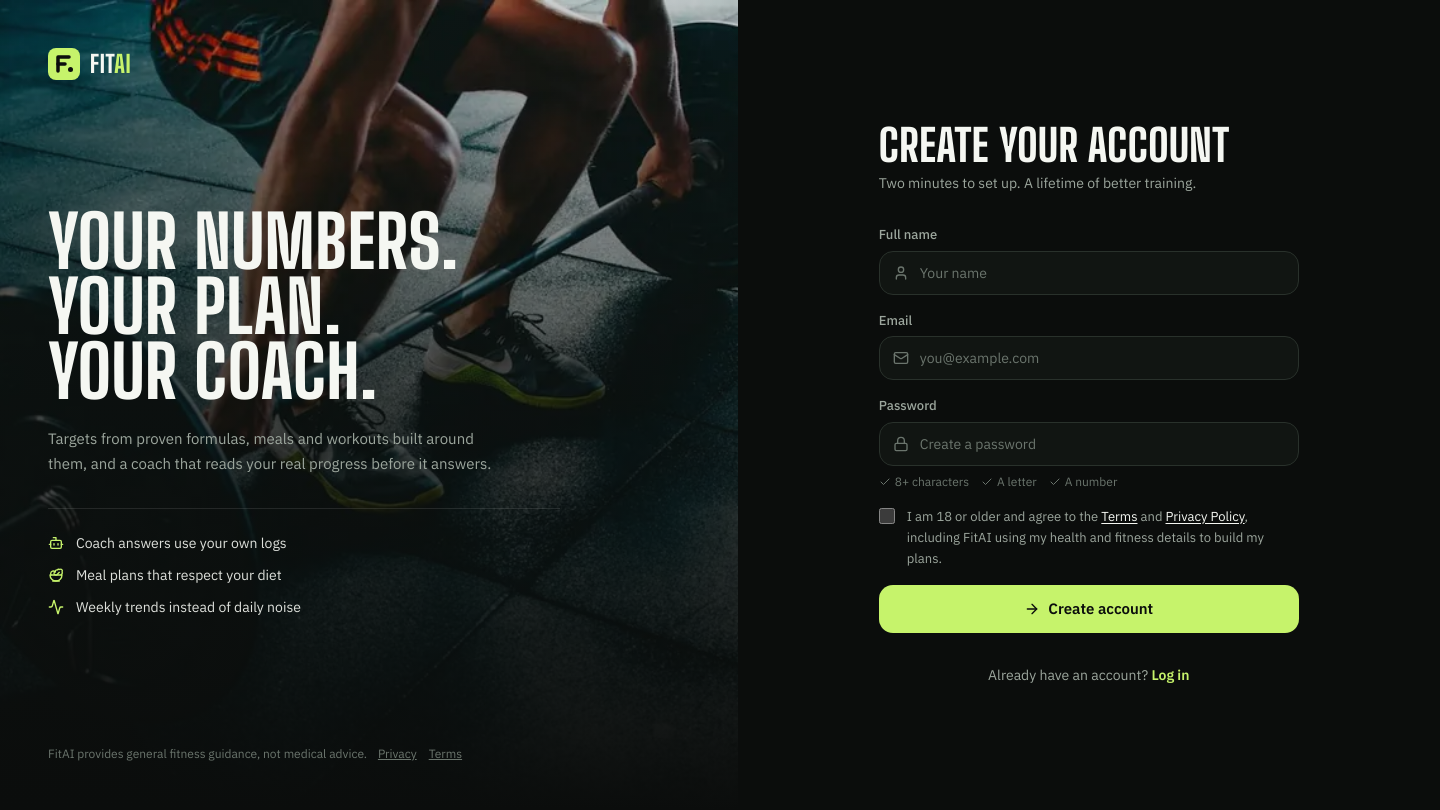
Test: sign-up consent › asks people to accept the terms before creating the account
Step 1. Type "Neha K" into the field labelled "Full name" → (1089, 273), box [879,251,1299,295]
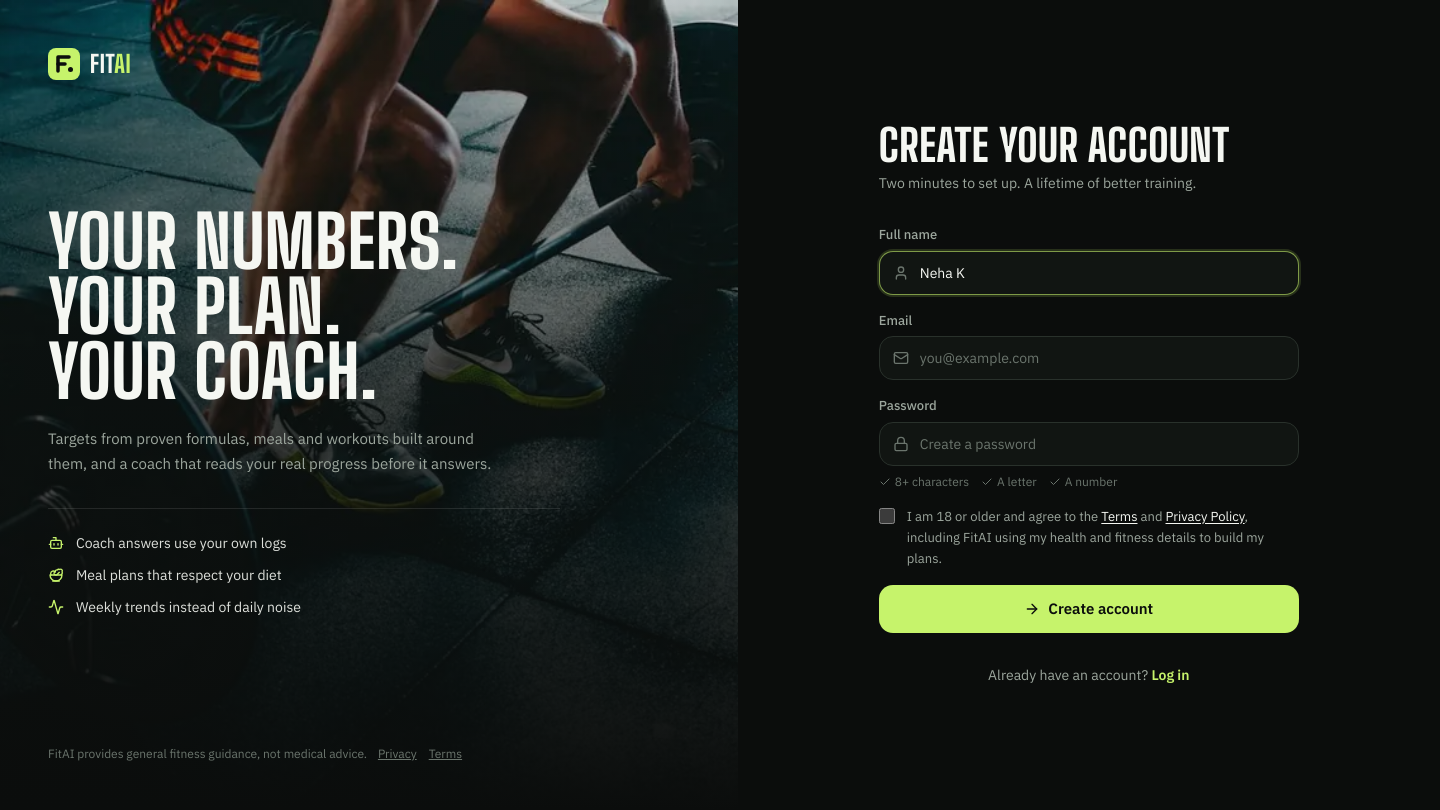
Step 2. Type "neha@example.com" into the field labelled "Email" → (1089, 358), box [879,336,1299,380]
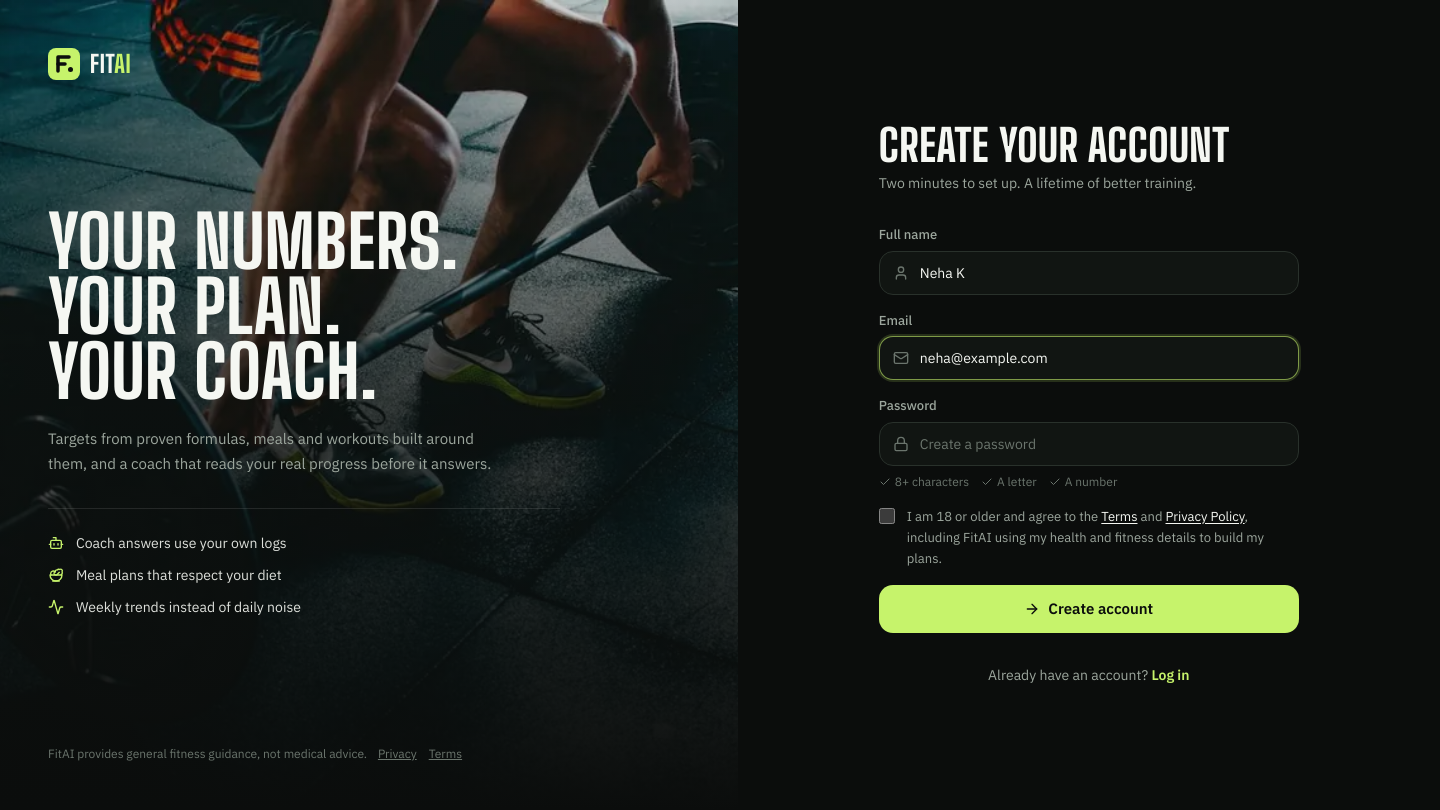
Step 3. Type "secret123" into the password field labelled "Password" → (1089, 444), box [879,422,1299,466]
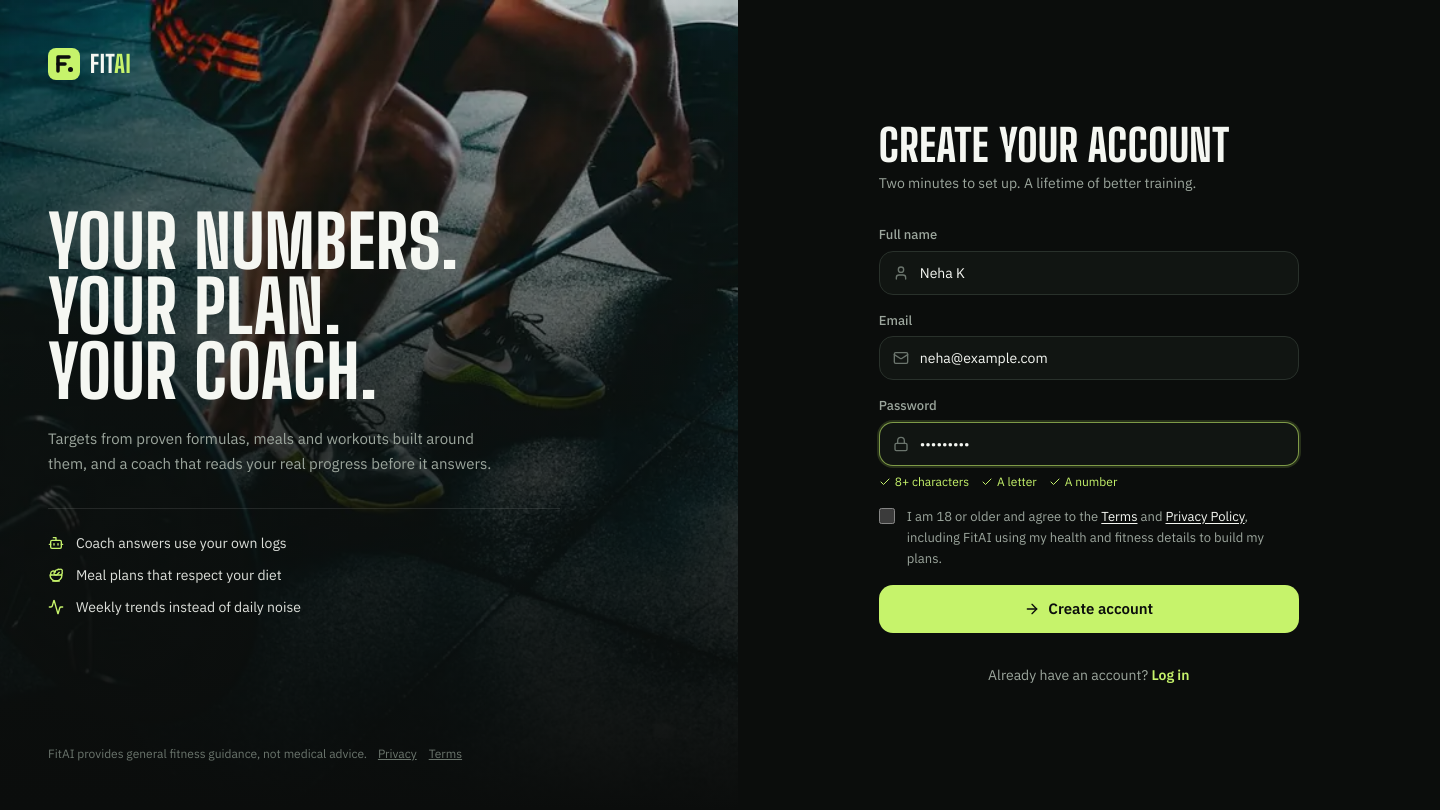
Step 4. Click the button "Create account" → (1089, 609), box [879,585,1299,633]
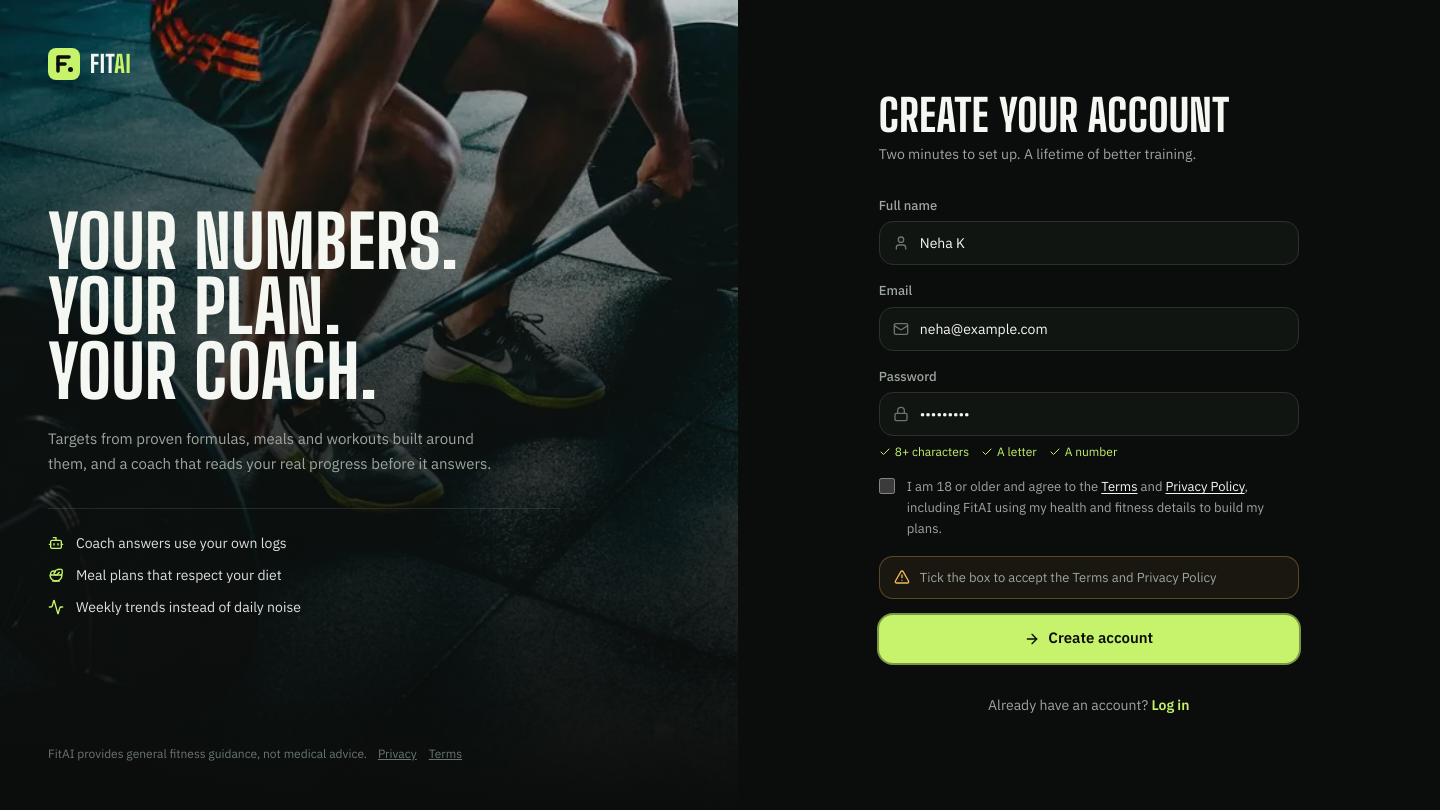
Now the text "Tick the box to accept the Terms and Privacy Policy" is shown, box [920,567,1216,588]
